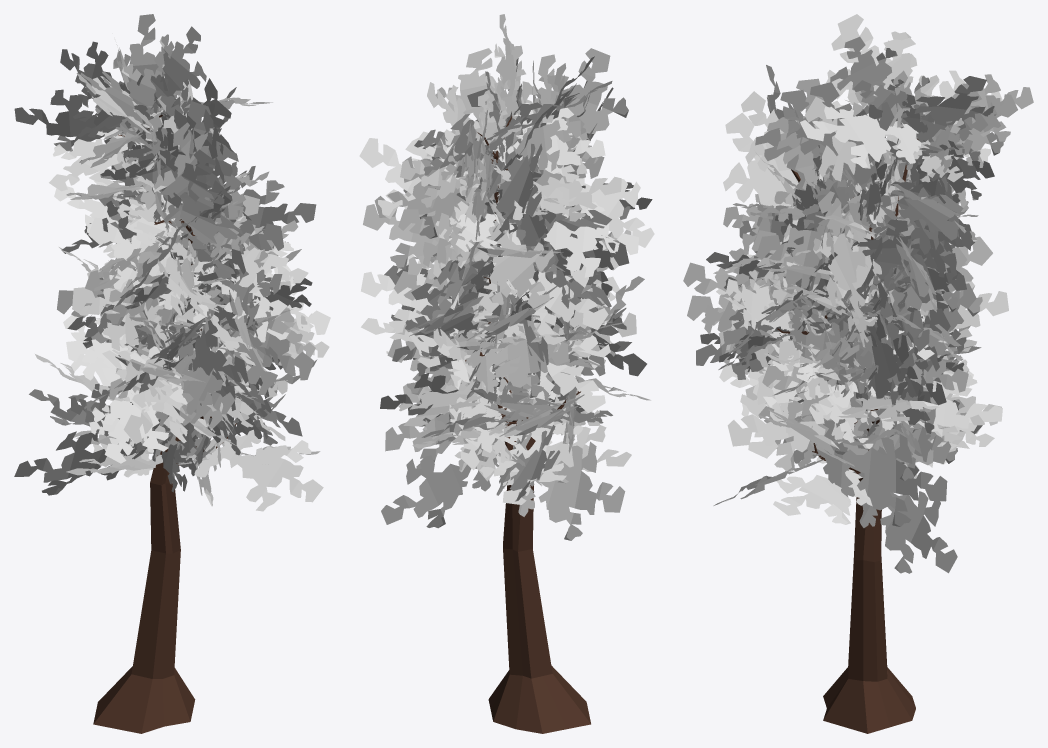
The model's file is Tree 3.fbx.
3 renders of one model, left to right at view 1: azimuth 30°, elevation 25°; view 2: azimuth 150°, elevation 25°; view 3: azimuth 270°, elevation 25°, orthographic. The views are drawn at different scales.
Parts seen in each view (by area): view 1: Cube, Cube|Tree Branch|Dupli|75, Cube|Tree Branch|Dupli|117, Cube|Tree Branch|Dupli|251, Cube|Tree Branch|Dupli|227, Cube|Tree Branch|Dupli|23, Cube|Tree Branch|Dupli|5, Cube|Tree Branch|Dupli|127, Cube|Tree Branch|Dupli|228, Cube|Tree Branch|Dupli|50, Cube|Tree Branch|Dupli|14, Cube|Tree Branch|Dupli|138 (+60 smaller); view 2: Cube, Cube|Tree Branch|Dupli|251, Cube|Tree Branch|Dupli|71, Cube|Tree Branch|Dupli|279, Cube|Tree Branch|Dupli|41, Cube|Tree Branch|Dupli|211, Cube|Tree Branch|Dupli|46, Cube|Tree Branch|Dupli|227, Cube|Tree Branch|Dupli|153, Cube|Tree Branch|Dupli|108, Cube|Tree Branch|Dupli|44, Cube|Tree Branch|Dupli|257 (+63 smaller); view 3: Cube, Cube|Tree Branch|Dupli|123, Cube|Tree Branch|Dupli|71, Cube|Tree Branch|Dupli|229, Cube|Tree Branch|Dupli|64, Cube|Tree Branch|Dupli|23, Cube|Tree Branch|Dupli|70, Cube|Tree Branch|Dupli|144, Cube|Tree Branch|Dupli|237, Cube|Tree Branch|Dupli|160, Cube|Tree Branch|Dupli|44, Cube|Tree Branch|Dupli|221 (+62 smaller).
Part boxes in pixels (left/top/right/bottom): Cube: left=93, top=115, right=236, bottom=733; Cube|Tree Branch|Dupli|75: left=194, top=429, right=323, bottom=511; Cube|Tree Branch|Dupli|117: left=220, top=307, right=313, bottom=395; Cube|Tree Branch|Dupli|251: left=14, top=431, right=147, bottom=495; Cube|Tree Branch|Dupli|227: left=14, top=89, right=149, bottom=151; Cube|Tree Branch|Dupli|23: left=159, top=183, right=243, bottom=273; Cube|Tree Branch|Dupli|5: left=88, top=217, right=189, bottom=309; Cube|Tree Branch|Dupli|127: left=92, top=384, right=168, bottom=463; Cube|Tree Branch|Dupli|228: left=150, top=26, right=206, bottom=129; Cube|Tree Branch|Dupli|50: left=49, top=128, right=144, bottom=191; Cube|Tree Branch|Dupli|14: left=85, top=248, right=208, bottom=325; Cube|Tree Branch|Dupli|138: left=178, top=319, right=248, bottom=410; Cube: left=465, top=115, right=590, bottom=733; Cube|Tree Branch|Dupli|251: left=511, top=431, right=625, bottom=540; Cube|Tree Branch|Dupli|71: left=381, top=438, right=497, bottom=528; Cube|Tree Branch|Dupli|279: left=465, top=319, right=568, bottom=397; Cube|Tree Branch|Dupli|41: left=473, top=218, right=553, bottom=310; Cube|Tree Branch|Dupli|211: left=538, top=48, right=628, bottom=163; Cube|Tree Branch|Dupli|46: left=500, top=201, right=638, bottom=277; Cube|Tree Branch|Dupli|227: left=487, top=115, right=542, bottom=232; Cube|Tree Branch|Dupli|153: left=494, top=256, right=608, bottom=335; Cube|Tree Branch|Dupli|108: left=527, top=335, right=610, bottom=413; Cube|Tree Branch|Dupli|44: left=359, top=131, right=460, bottom=239; Cube|Tree Branch|Dupli|257: left=479, top=421, right=582, bottom=504; Cube: left=777, top=138, right=918, bottom=733; Cube|Tree Branch|Dupli|123: left=816, top=420, right=947, bottom=526; Cube|Tree Branch|Dupli|71: left=858, top=446, right=957, bottom=573; Cube|Tree Branch|Dupli|229: left=800, top=105, right=921, bottom=168; Cube|Tree Branch|Dupli|64: left=727, top=373, right=846, bottom=471; Cube|Tree Branch|Dupli|23: left=723, top=112, right=798, bottom=262; Cube|Tree Branch|Dupli|70: left=773, top=469, right=872, bottom=524; Cube|Tree Branch|Dupli|144: left=756, top=204, right=875, bottom=294; Cube|Tree Branch|Dupli|237: left=887, top=76, right=996, bottom=153; Cube|Tree Branch|Dupli|160: left=826, top=215, right=879, bottom=317; Cube|Tree Branch|Dupli|44: left=866, top=184, right=976, bottom=245; Cube|Tree Branch|Dupli|221: left=755, top=90, right=846, bottom=215.
Bounding box in the file's own units: 703 × 1715 × 786.
